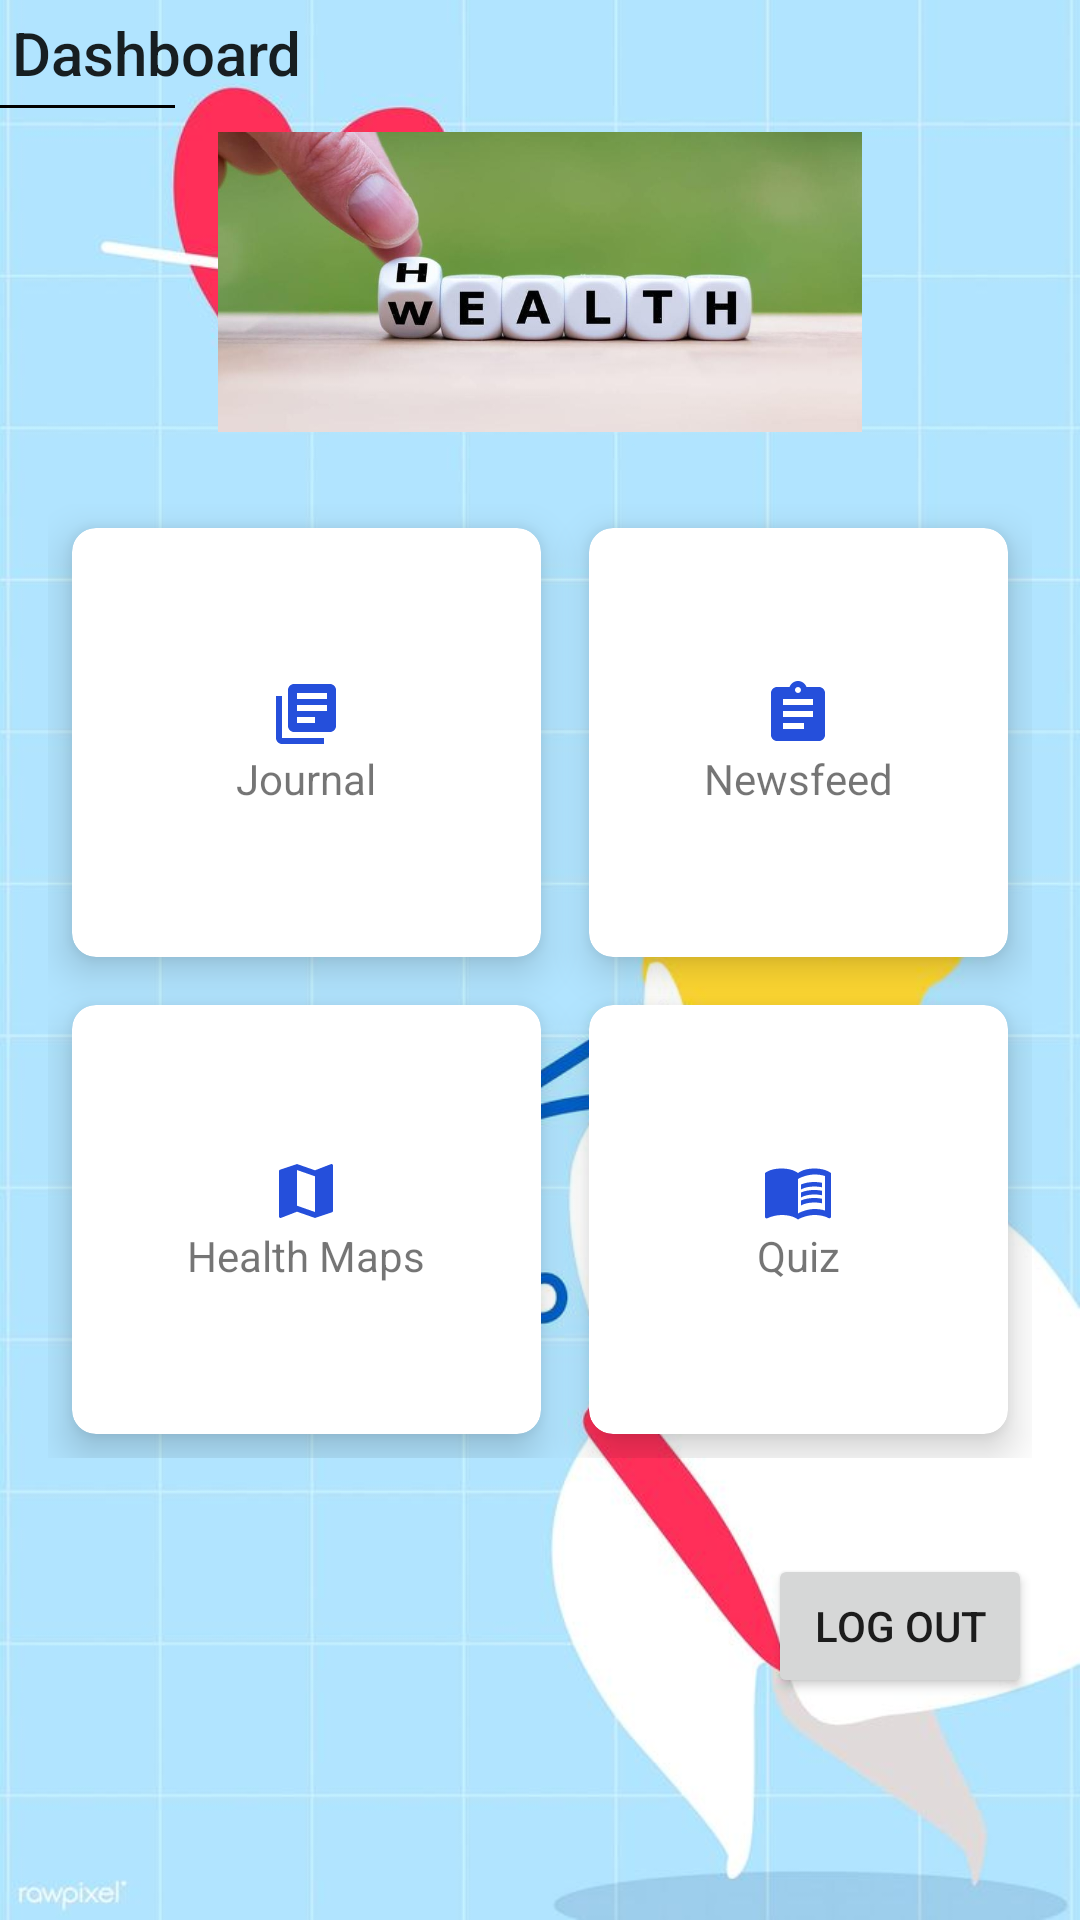

Icon bounding boxes for this 1080px×1920px phone screenshot, format (x1, y1, x2, y2):
book: (765, 1168, 831, 1220)
